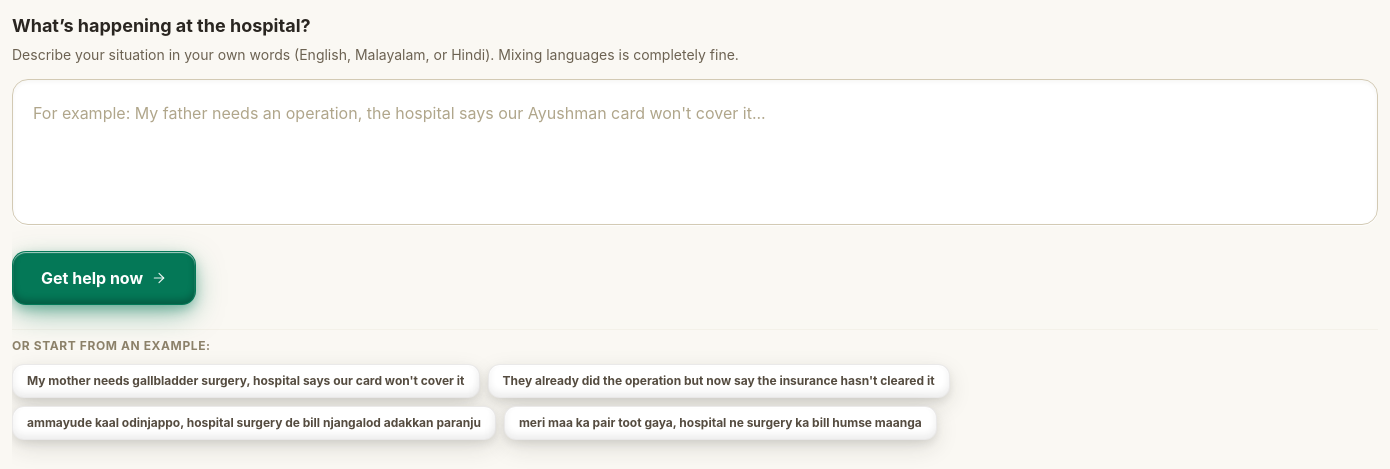
Test: IntakeForm › clicking an example prompt fills the textarea with that exact prompt
The image size is (1390, 469).
Click the button "hospital says our card won't cover it". click: (246, 381)
box: [12, 364, 480, 398]
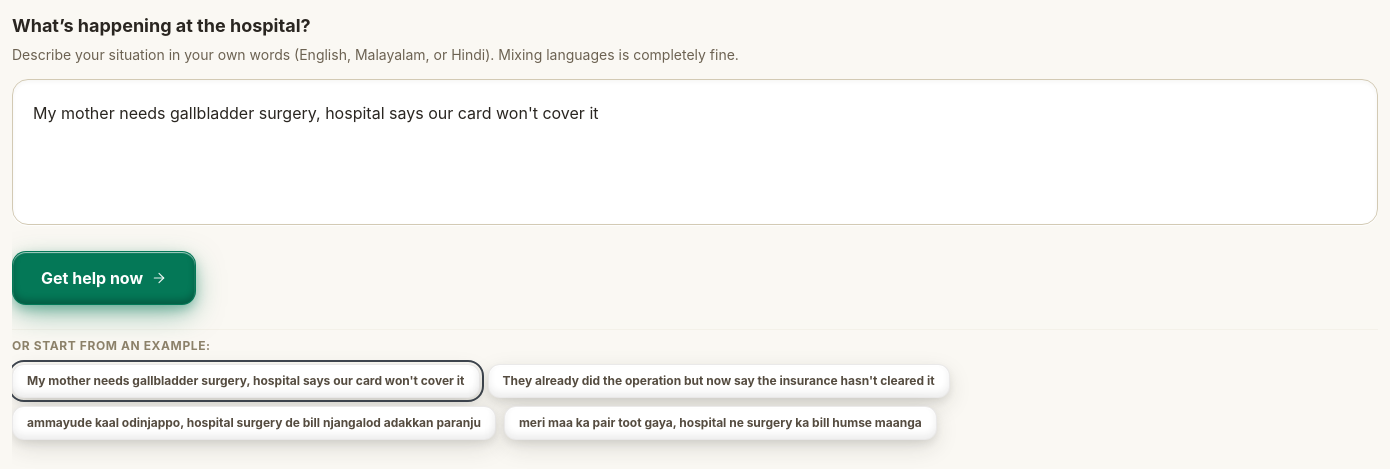
Expected: the text box labelled "What’s happening at the hospital?" holds "My mother needs gallbladder surgery, hospital says our card won't cover it", [12, 79, 1378, 225]
